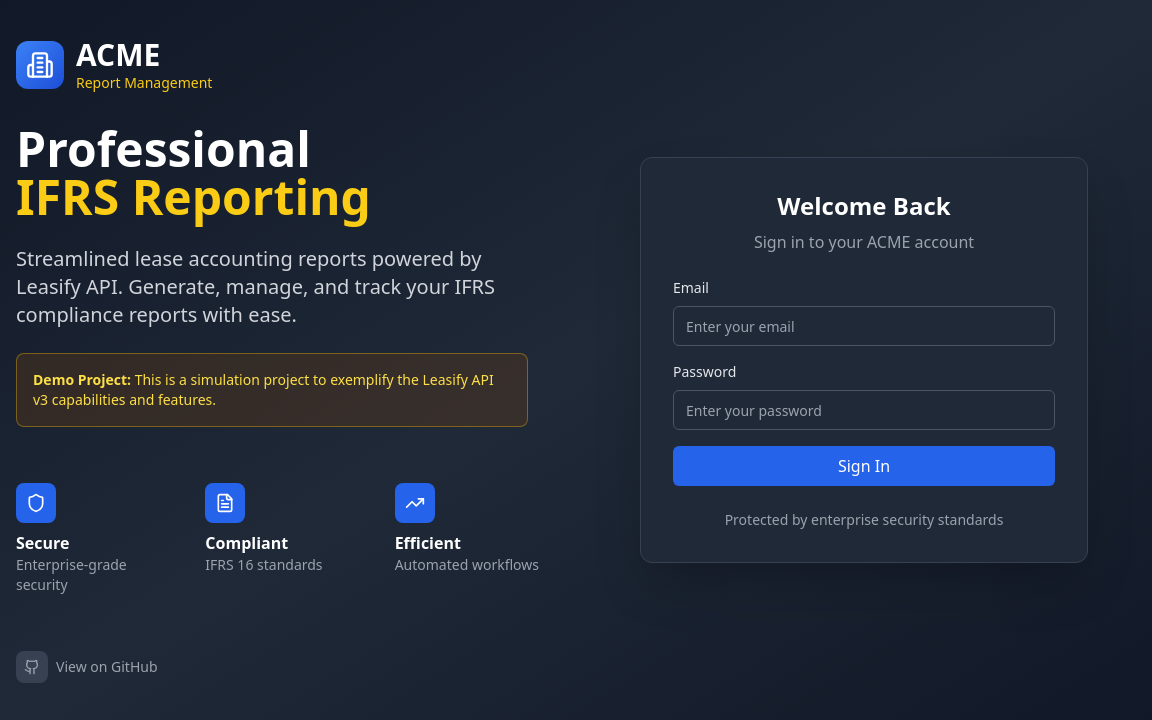
Test case: LoginPage › handles login failure with error message
The width and height of the screenshot is (1152, 720).
Type "wrong@email.com" into the field labelled "Email".
click(864, 326); type("wrong@email.com")  # box [673,306,1055,346]
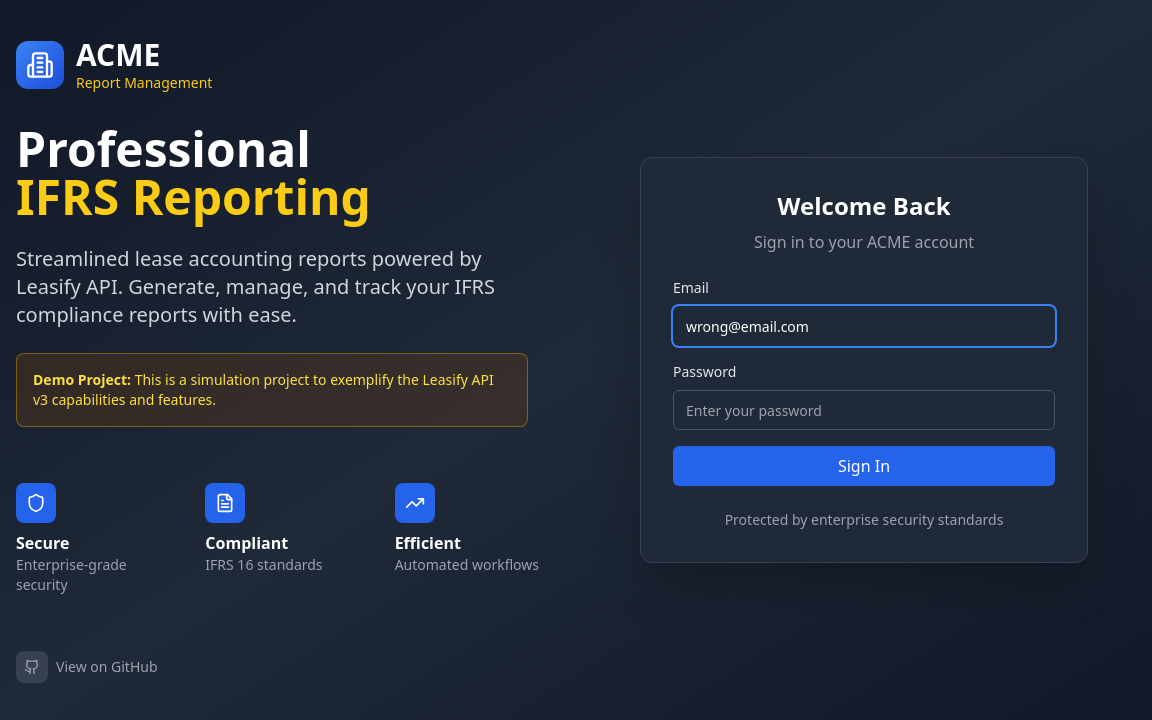
Type "wrongpassword" into the password field labelled "Password".
click(864, 410); type("wrongpassword")  # box [673,390,1055,430]
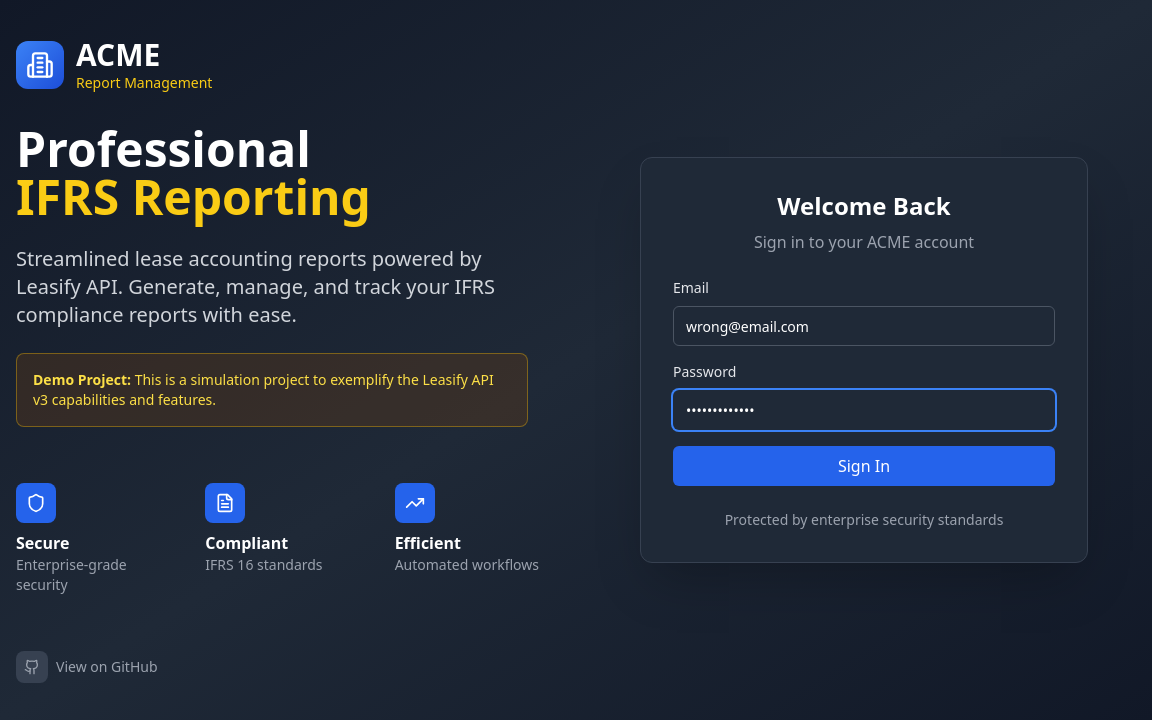
Click the button "Sign In".
click(864, 466)  # box [673,446,1055,486]
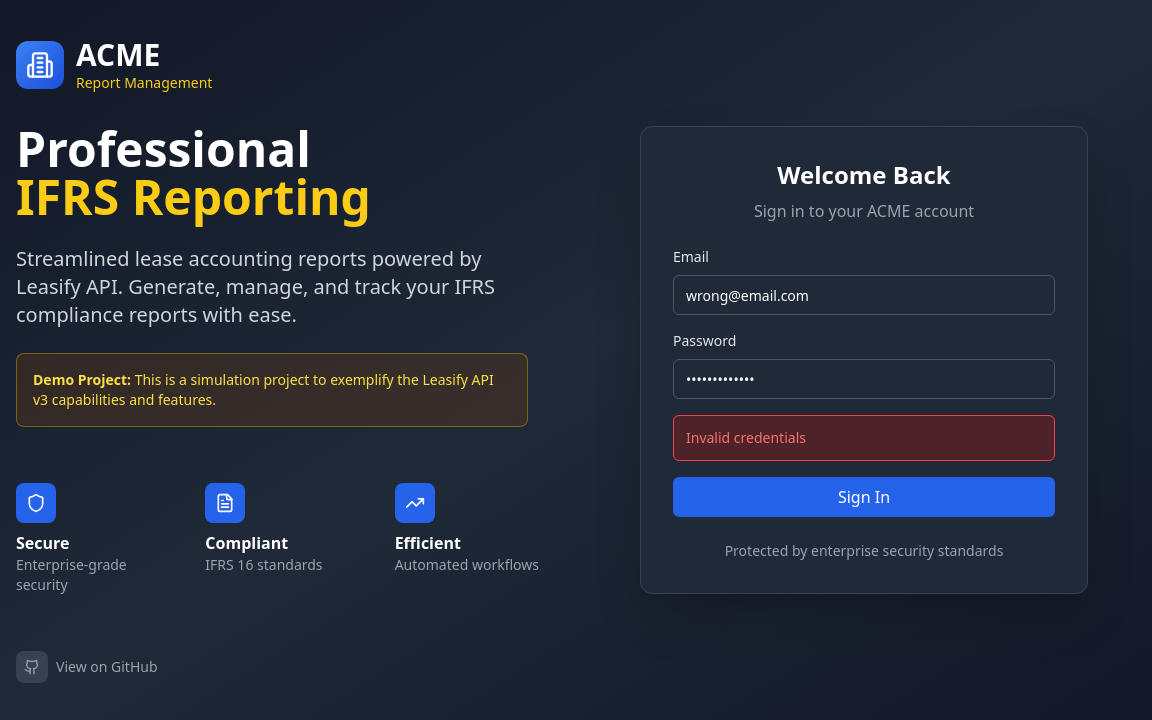
Expected: the button "Sign In" is shown, [673,477,1055,517]
Now the text "Invalid credentials" is shown, box [686,428,806,447]
